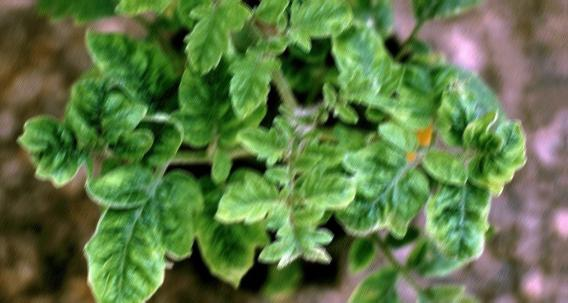Tomato leaf yellow virus: (81, 162, 194, 303), (342, 142, 447, 247), (420, 171, 516, 269), (81, 29, 181, 122), (184, 0, 256, 80), (334, 18, 402, 93), (218, 170, 294, 235), (283, 0, 361, 52), (292, 164, 367, 218)
